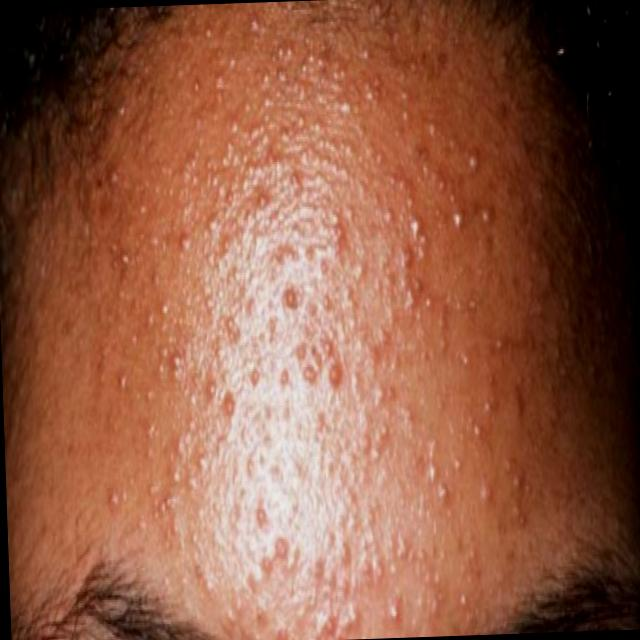fungal: (199, 43, 529, 640)
